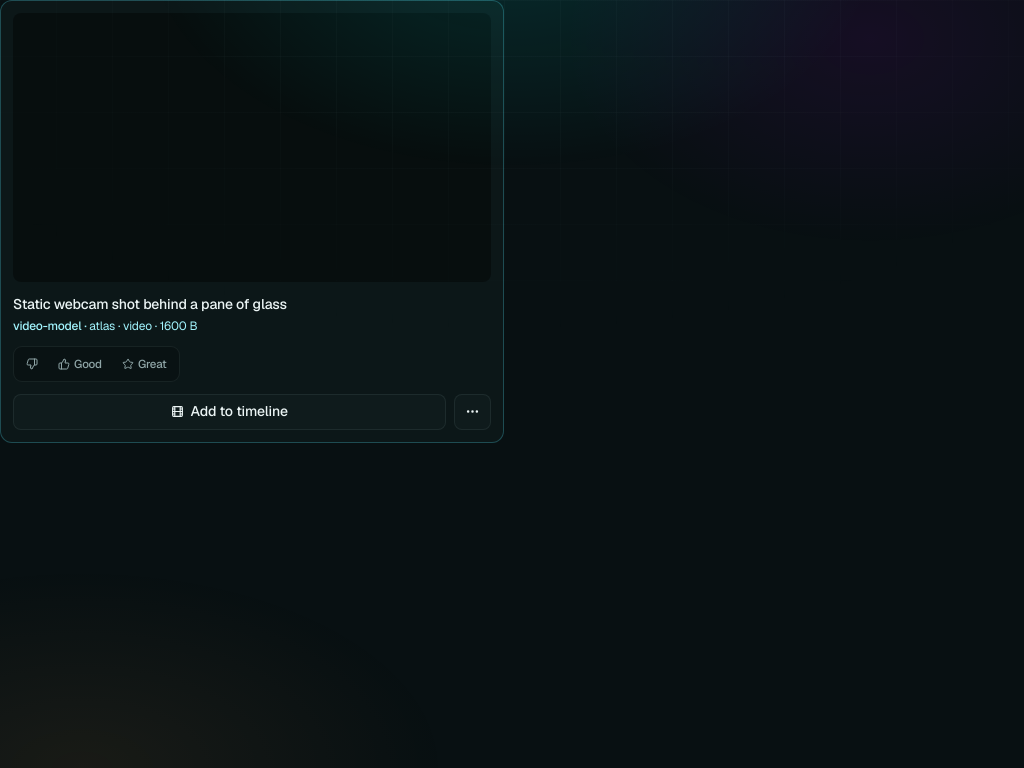
the cloud library card menu › asks before deleting
Click the button named "More actions": click(472, 412) left=454, top=394, right=491, bottom=430
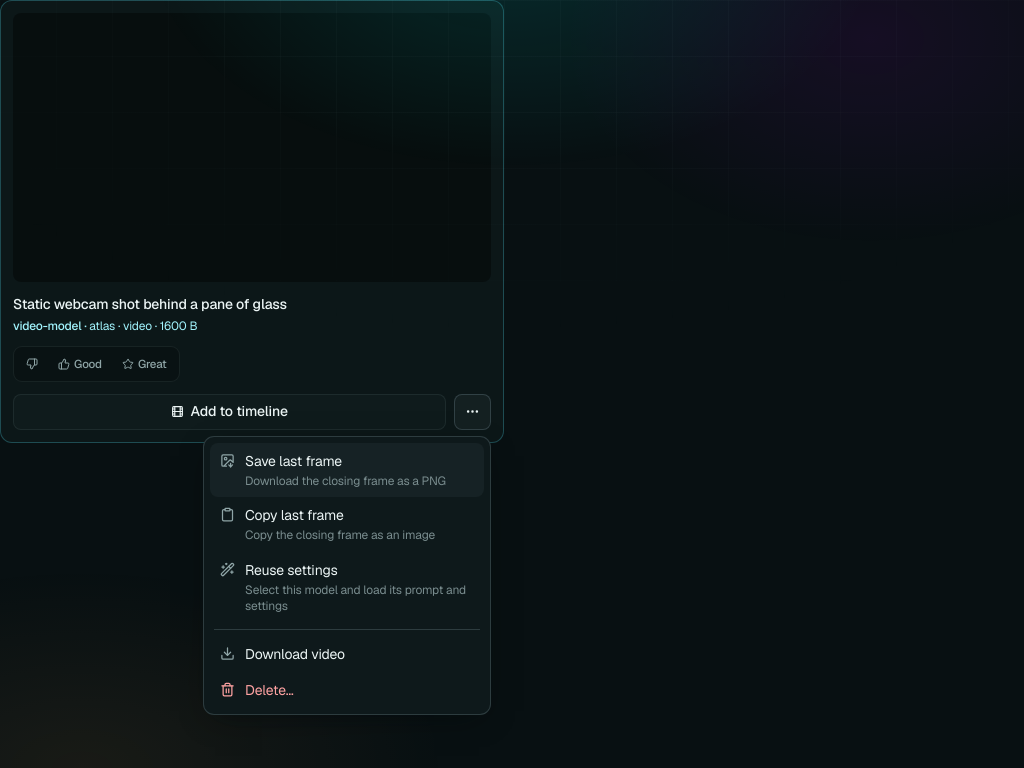
Click the menu item "Delete…": click(269, 690) left=210, top=672, right=484, bottom=708
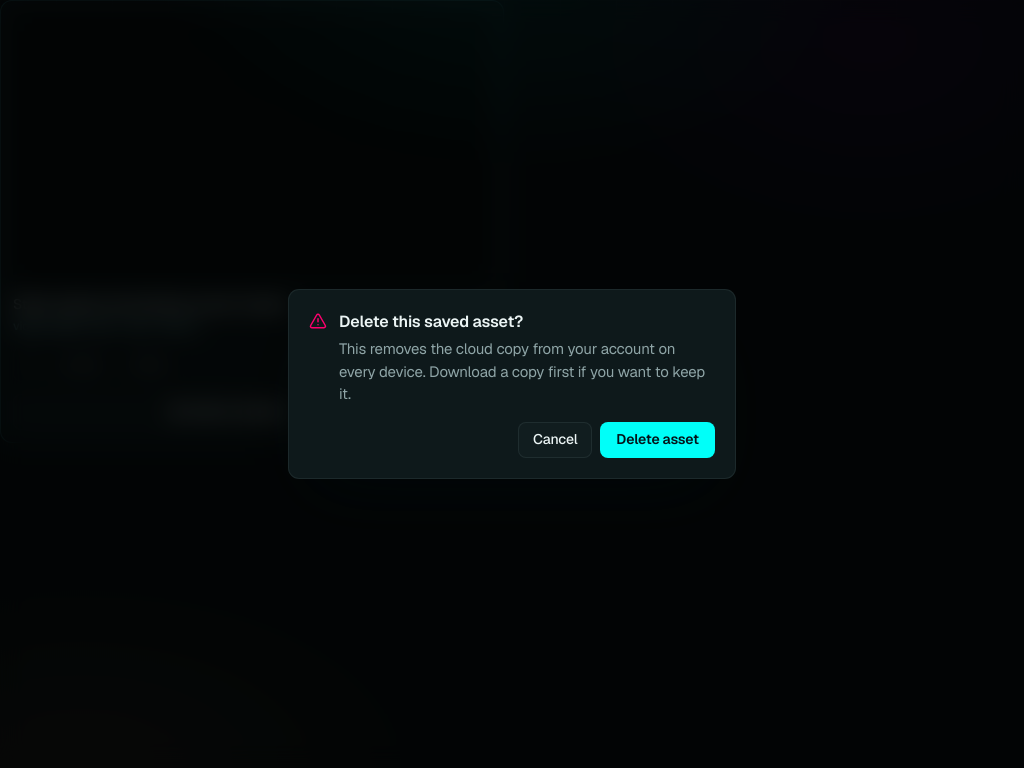
Expected: the dialog "Delete this saved asset?" is shown, left=288, top=289, right=736, bottom=479
